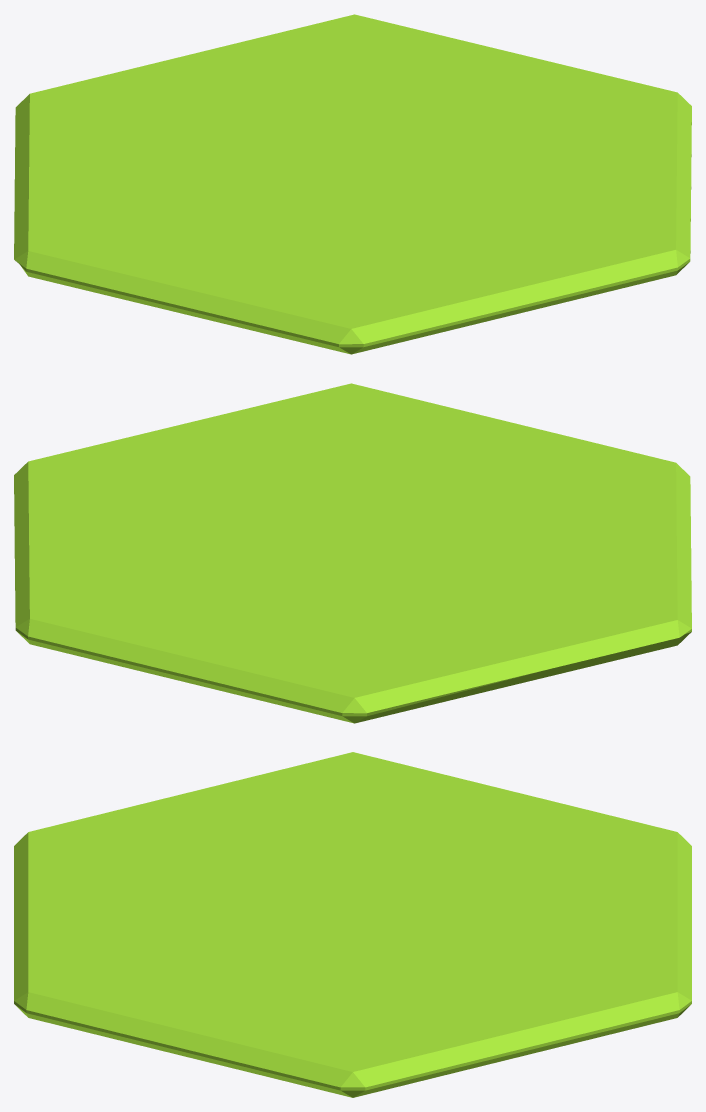
Rendered from hexagonLeer.fbx.
The picture shows the model from 3 angles, top to bottom: view 1: azimuth 30°, elevation 25°; view 2: azimuth 150°, elevation 25°; view 3: azimuth 270°, elevation 25°; orthographic projection.
Parts seen in each view (by area): view 1: Cylinder.001; view 2: Cylinder.001; view 3: Cylinder.001.
Part boxes in pixels (bbox=[...]): Cylinder.001: bbox=[14, 14, 691, 354]; Cylinder.001: bbox=[14, 383, 691, 723]; Cylinder.001: bbox=[14, 752, 691, 1097].
Bounding box in the file's own units: 115 × 4.22 × 100.
